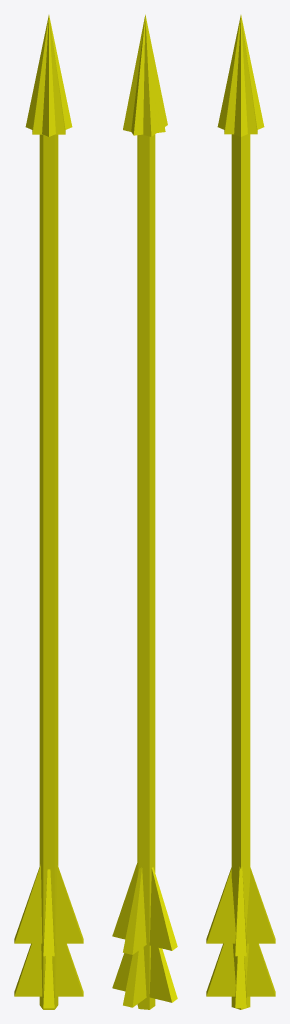
File: _arrow_b_9.glb
The picture shows the model from 3 angles, left to right: view 1: azimuth 90°, elevation 25°; view 2: azimuth 150°, elevation 25°; view 3: azimuth 270°, elevation 25°; orthographic projection.
Visible parts, largest first — view 1: arrow_b_9; view 2: arrow_b_9; view 3: arrow_b_9.
Boxes of the visible parts, bbox=[...] form: arrow_b_9: bbox=[14, 15, 83, 1009]; arrow_b_9: bbox=[112, 14, 177, 1009]; arrow_b_9: bbox=[206, 15, 275, 1009].
Bounding box in the file's own units: 1242 × 19644 × 1242.
